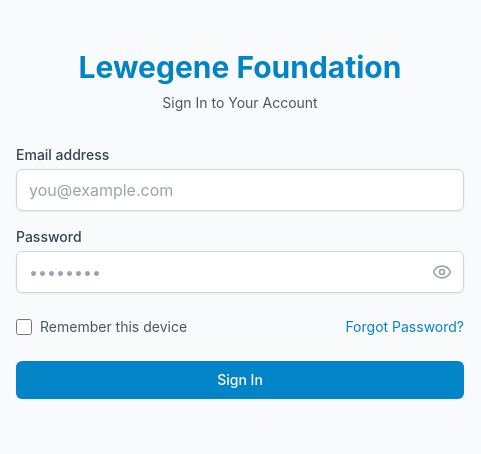
Test: LoginPage › shows error message on failed login
This screenshot has width=481, height=454.
Type "test@example.com" into the field with placeholder "you@example.com" at (240, 190), box [16,169,464,211]
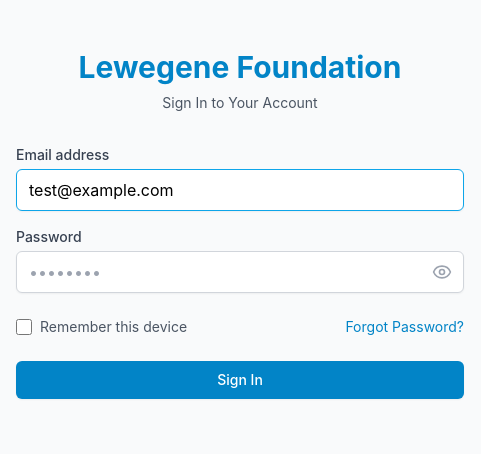
Type "password123" into the password field with placeholder "••••••••" at (240, 272), box [16,251,464,293]
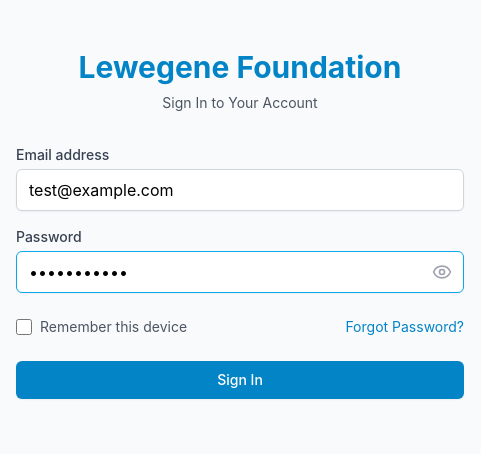
Click the button "Sign In" at (240, 380), box [16,361,464,399]
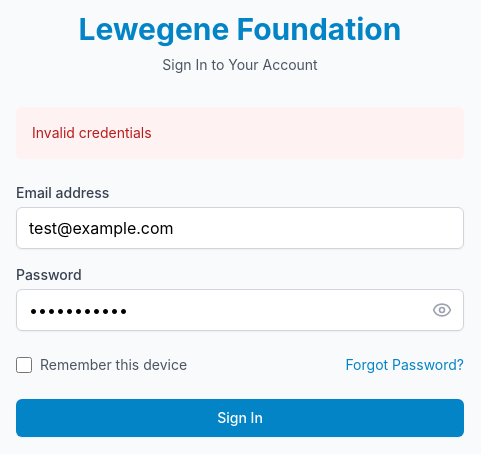
Now the text "Invalid credentials" is shown, box [32,124,152,141]
